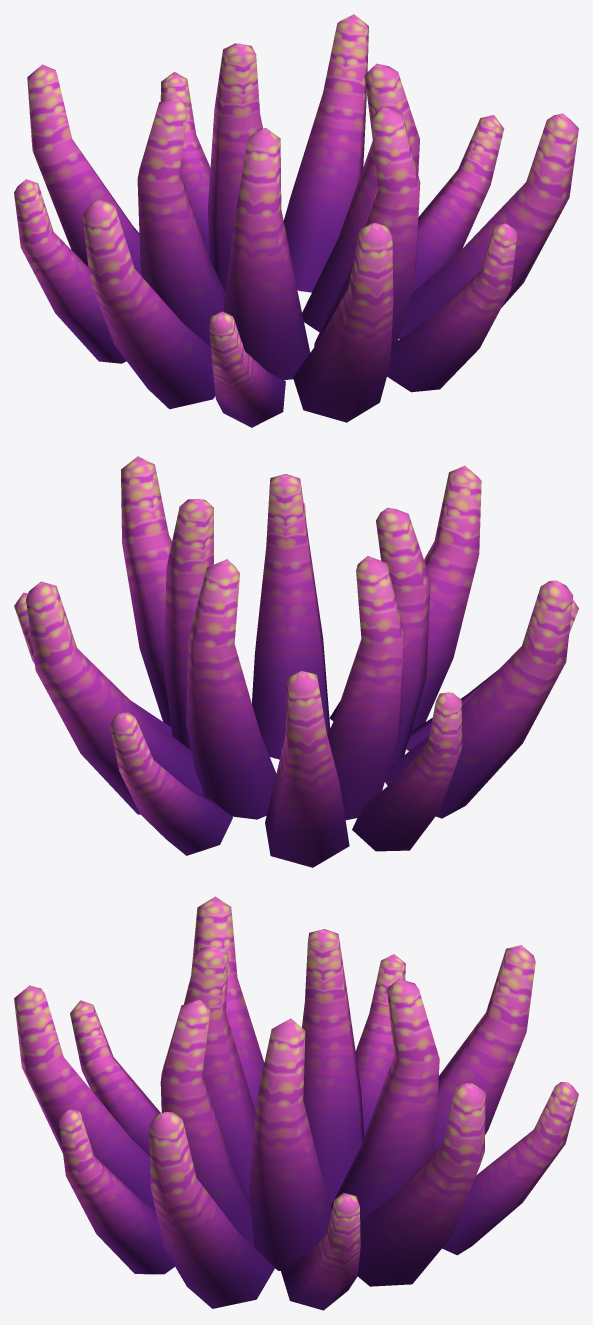
Rendered from Coral_13b.FBX.
3 renders of one model, top to bottom at view 1: azimuth 30°, elevation 25°; view 2: azimuth 150°, elevation 25°; view 3: azimuth 270°, elevation 25°, orthographic.
Visible parts, largest first — view 1: Coral_13b; view 2: Coral_13b; view 3: Coral_13b.
Part boxes in pixels (left/top/right/bottom): Coral_13b: left=14, top=14, right=578, bottom=427; Coral_13b: left=14, top=456, right=578, bottom=867; Coral_13b: left=14, top=896, right=578, bottom=1310.
Size of the model in its own units: 45.27 by 24.37 by 46.29.
